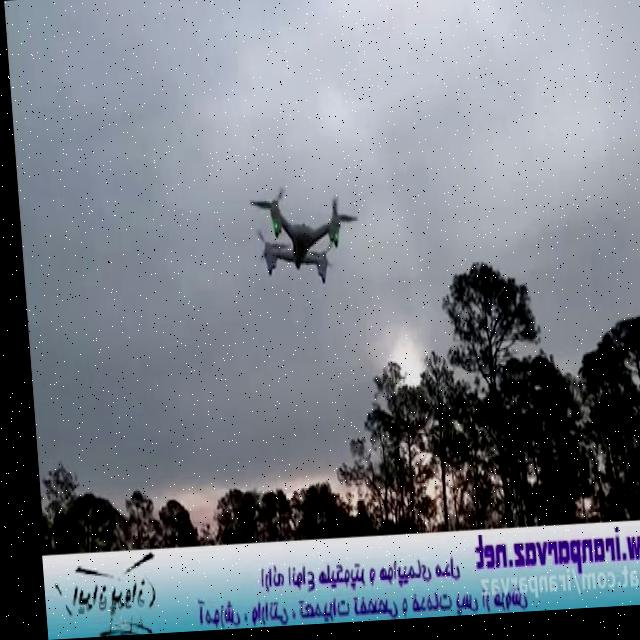drone: (238, 178, 363, 293)
